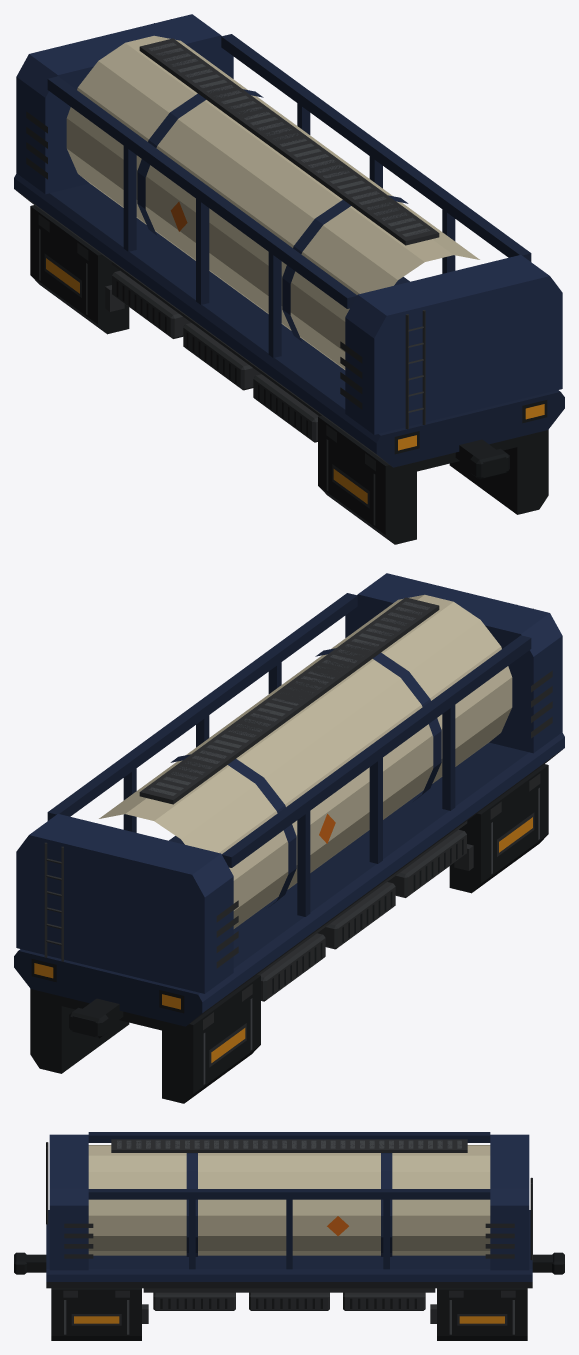
The model's file is colony-tanker.glb.
3 renders of one model, top to bottom at view 1: azimuth 30°, elevation 25°; view 2: azimuth 150°, elevation 25°; view 3: azimuth 270°, elevation 25°, orthographic. The views are drawn at different scales.
Visible parts, largest first — view 1: colony-tanker (×2); view 2: colony-tanker (×2); view 3: colony-tanker (×2).
Part boxes in pixels (x1,y1,x2,y2): colony-tanker (×2): [14, 14, 564, 544]; colony-tanker (×2): [14, 573, 564, 1103]; colony-tanker (×2): [14, 1132, 564, 1340].
Bounding box in the file's own units: 9.1 × 11.75 × 34.
